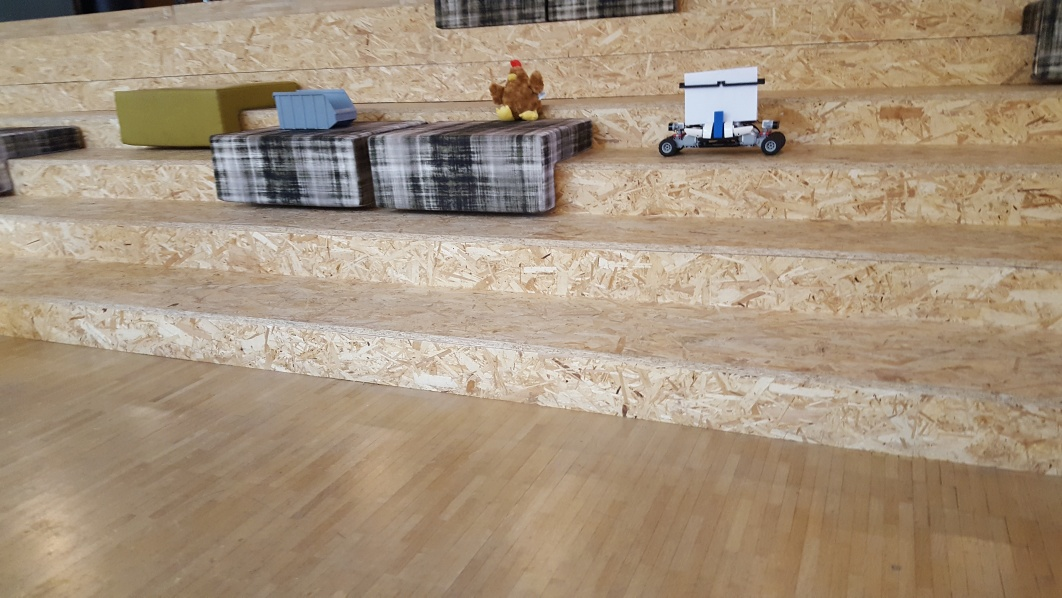beam: (712, 111, 724, 138)
chicken: (486, 59, 549, 123)
tray: (273, 88, 358, 129)
